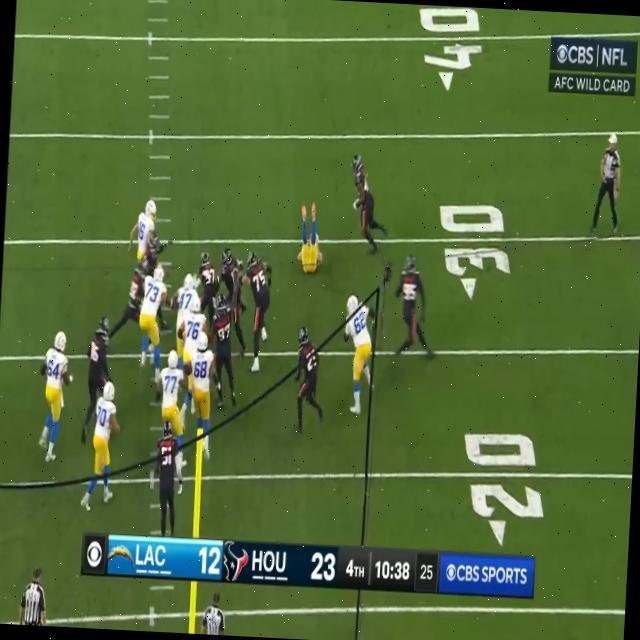Player: (84, 381, 120, 514), (120, 198, 162, 300), (134, 262, 171, 377), (37, 326, 68, 460), (340, 295, 374, 416), (110, 264, 149, 360), (290, 324, 324, 434), (392, 250, 424, 364), (152, 422, 183, 534), (243, 254, 270, 376), (346, 152, 378, 252), (211, 292, 238, 405), (188, 337, 218, 435), (156, 348, 185, 429), (84, 315, 112, 380), (184, 299, 208, 355), (176, 272, 198, 332), (198, 250, 218, 306)
Referee: (591, 130, 628, 240), (16, 563, 52, 626), (200, 592, 230, 636)
